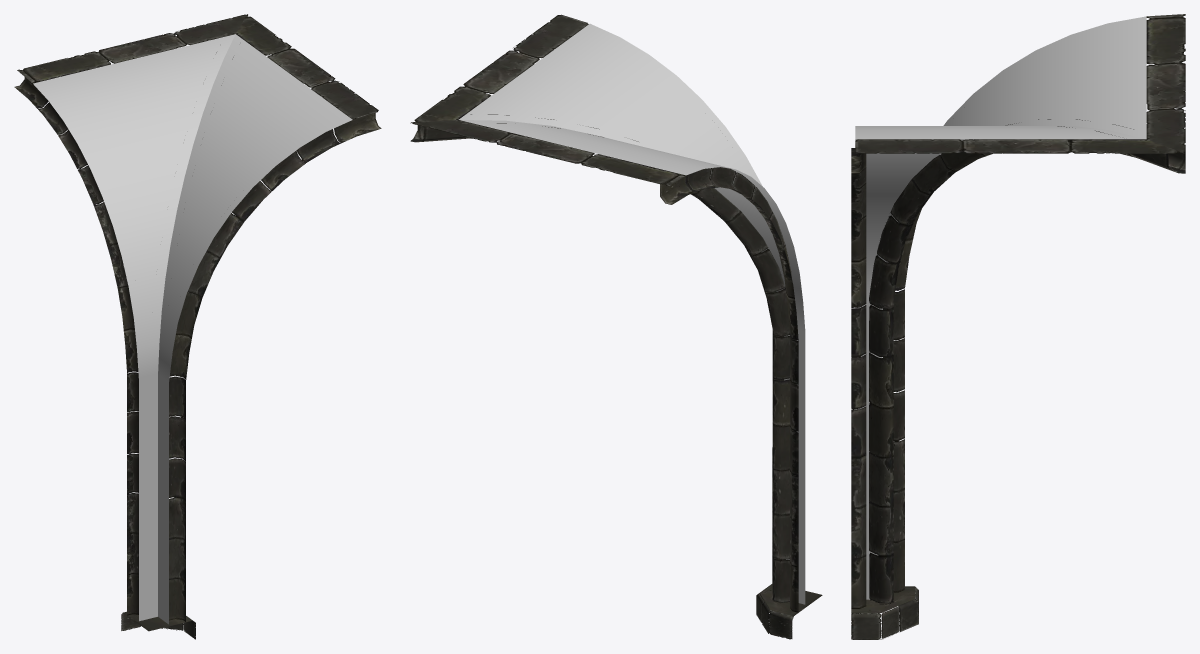
3 renders of one model, left to right at view 1: azimuth 30°, elevation 25°; view 2: azimuth 150°, elevation 25°; view 3: azimuth 270°, elevation 25°, orthographic. The views are drawn at different scales.
Parts seen in each view (by area): view 1: SM_Dowdun_Vaulted_Ceiling_12x3_01_LOD0; view 2: SM_Dowdun_Vaulted_Ceiling_12x3_01_LOD0; view 3: SM_Dowdun_Vaulted_Ceiling_12x3_01_LOD0.
Boxes of the visible parts, left/top/right/bottom form: SM_Dowdun_Vaulted_Ceiling_12x3_01_LOD0: left=14, top=14, right=381, bottom=639; SM_Dowdun_Vaulted_Ceiling_12x3_01_LOD0: left=410, top=14, right=822, bottom=639; SM_Dowdun_Vaulted_Ceiling_12x3_01_LOD0: left=851, top=14, right=1185, bottom=639.
Size of the model in its own units: 6.08 by 12 by 6.08.
